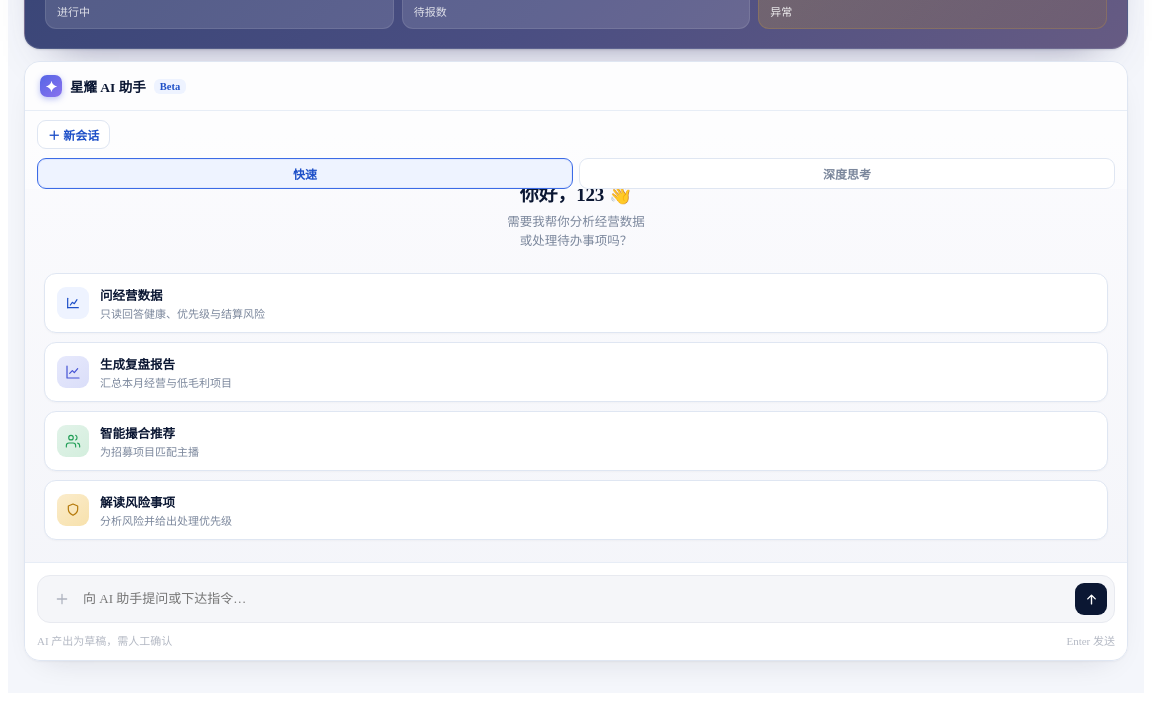
OverviewBoard AI panel › does not render cancelled success when the cancel route fails
(page scrolled)
In the field with placeholder "向 AI 助手提问或下达指令…": (574, 599) [81,590,1067,608], type "Cancel fails safely"
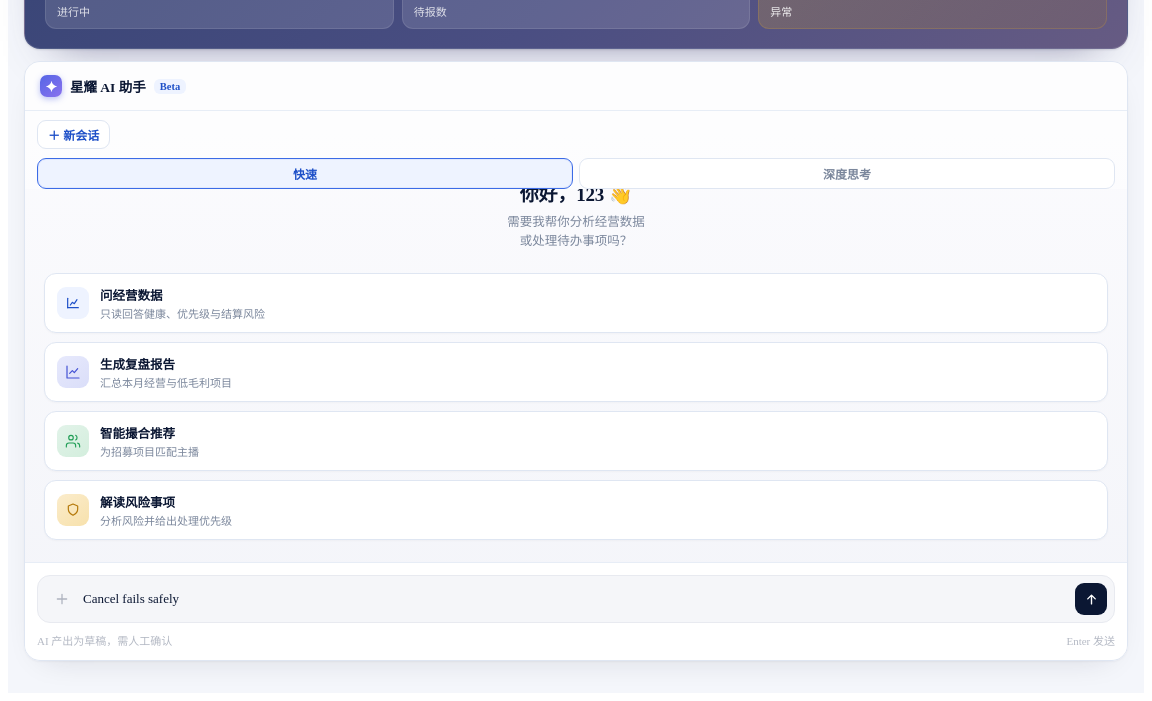
Press Enter in the field, box [81,590,1067,608]
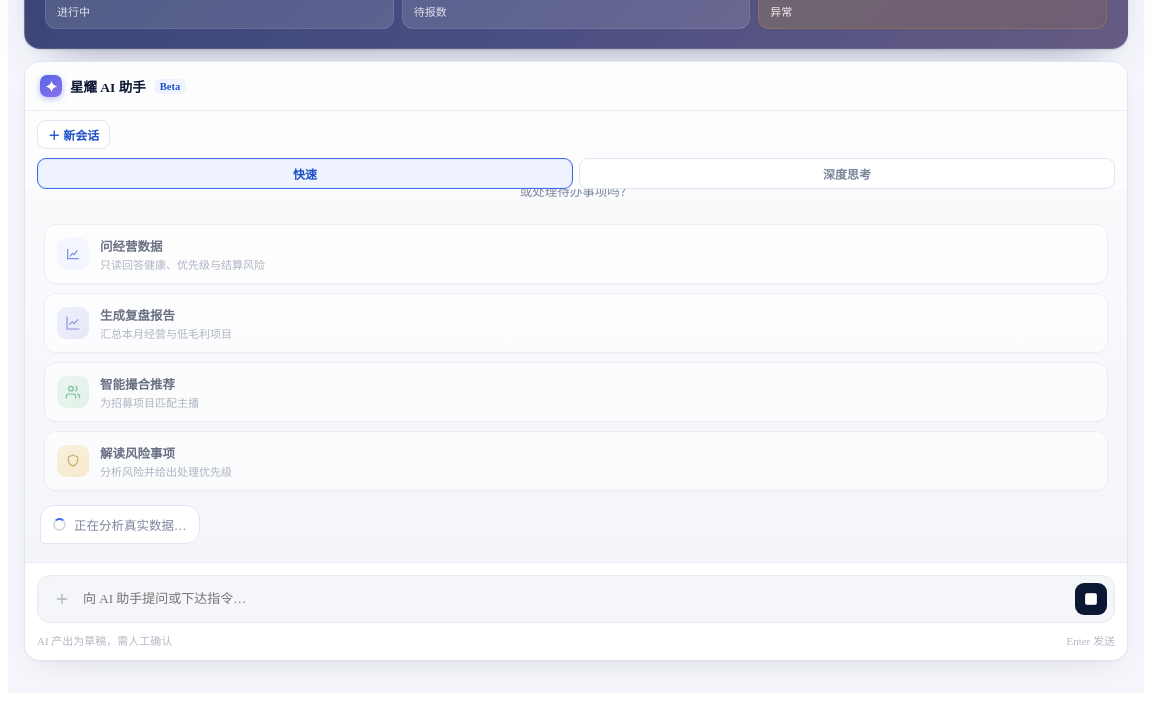
Click the button with test id "ai-send-stop-button": (1091, 599) [1075,583,1107,615]
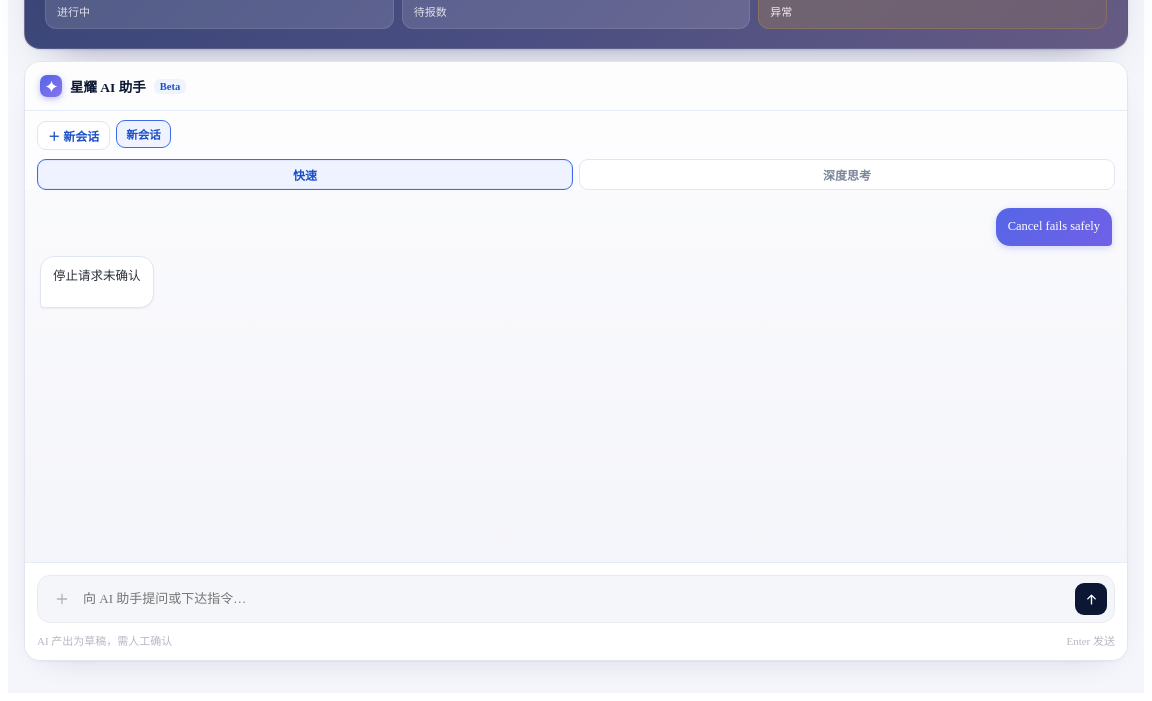
expect the text "停止请求未确认" is shown: met, box [53,266,140,287]
